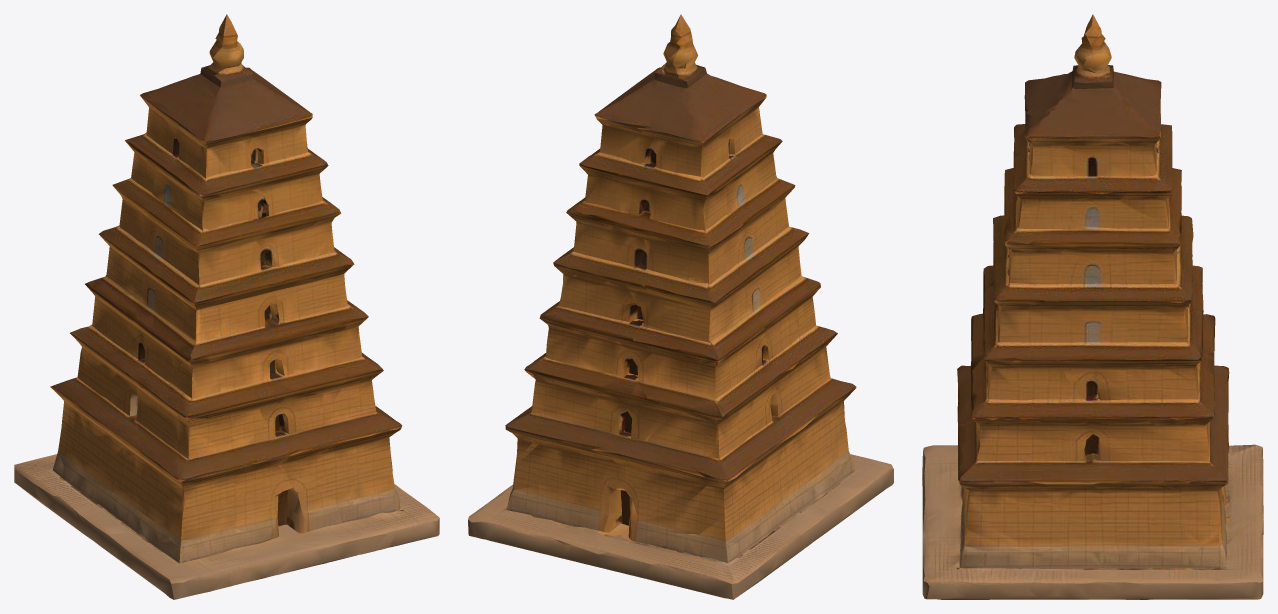
The model's file is giant-wild-goose-pagoda.glb.
3 views of the same model, side by side, from view 1: azimuth 30°, elevation 25°; view 2: azimuth 150°, elevation 25°; view 3: azimuth 270°, elevation 25° (orthographic). The views are drawn at different scales.
Visible parts, largest first — view 1: logan-textured.obj; view 2: logan-textured.obj; view 3: logan-textured.obj.
Part boxes in pixels (x1,y1,x2,y2): logan-textured.obj: (14,14,439,599); logan-textured.obj: (468,14,893,599); logan-textured.obj: (922,14,1263,599).
Size of the model in its own units: 0.5703 by 1 by 0.5979.
Materials: 1 (1 with a texture image).
